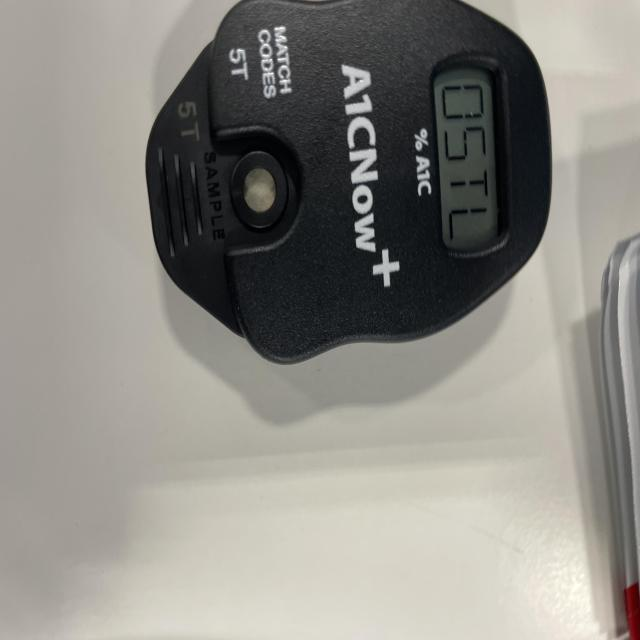hba1c: (144, 0, 554, 369)
